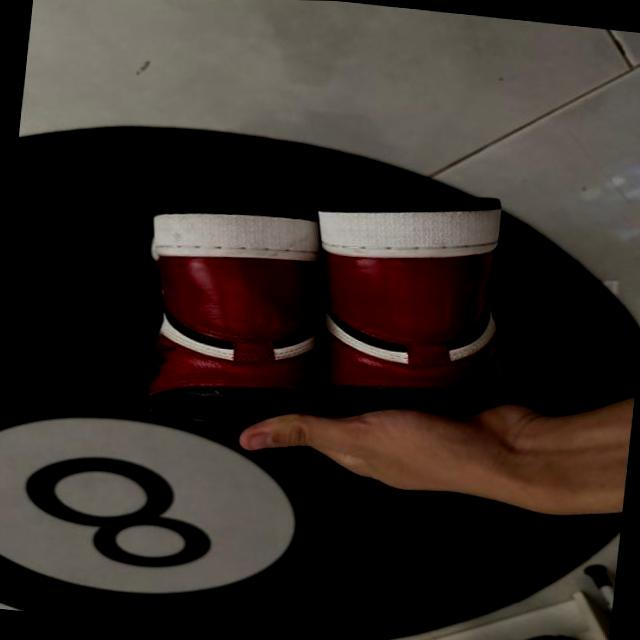nike_original_jordan: (288, 178, 517, 436), (120, 197, 342, 444)
